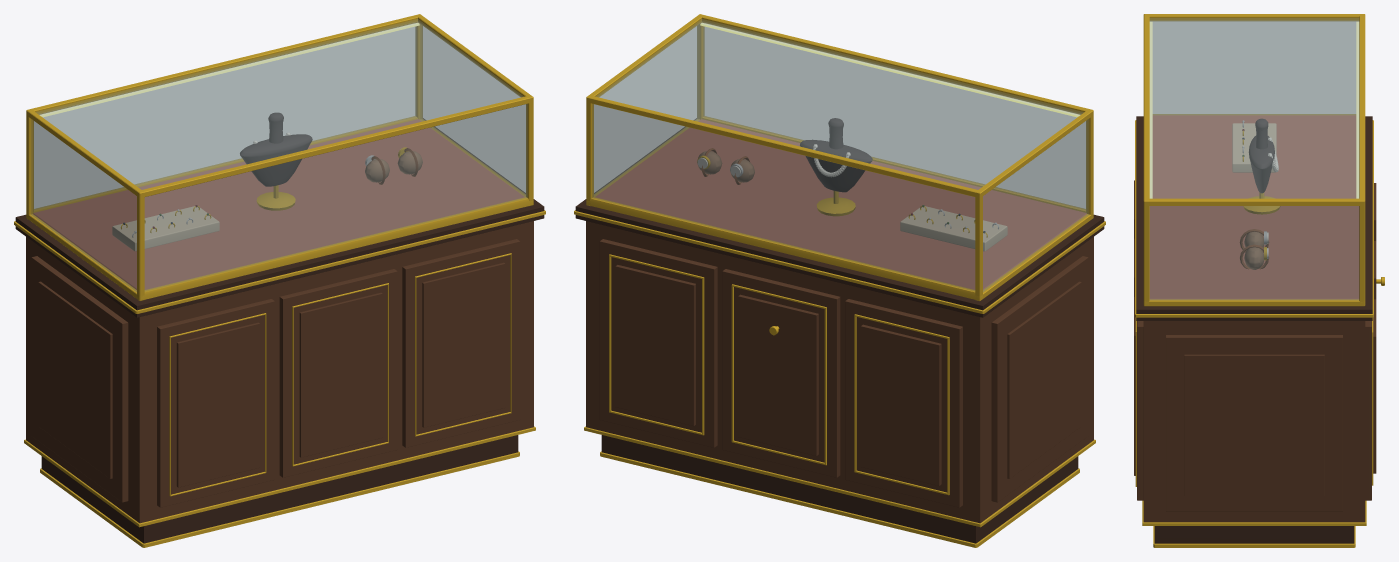
File: prop_display_case_island.glb
3 renders of one model, left to right at view 1: azimuth 30°, elevation 25°; view 2: azimuth 150°, elevation 25°; view 3: azimuth 270°, elevation 25°, orthographic. The views are drawn at different scales.
Parts seen in each view (by area): view 1: Body, Glass, Display; view 2: Body, Glass, Display; view 3: Body, Glass, Display.
Boxes of the visible parts, <box> form: Body: <box>14,14,545,547</box>; Glass: <box>31,19,527,291</box>; Display: <box>112,112,422,251</box>; Body: <box>574,14,1105,547</box>; Glass: <box>592,19,1088,291</box>; Display: <box>697,118,1007,251</box>; Body: <box>1134,14,1384,547</box>; Glass: <box>1149,18,1359,299</box>; Display: <box>1232,118,1280,269</box>.
Size of the model in its own units: 1.25 by 1.05 by 0.679.
